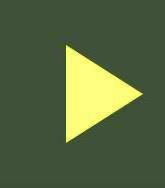ImgButton: (1, 1, 164, 187)
